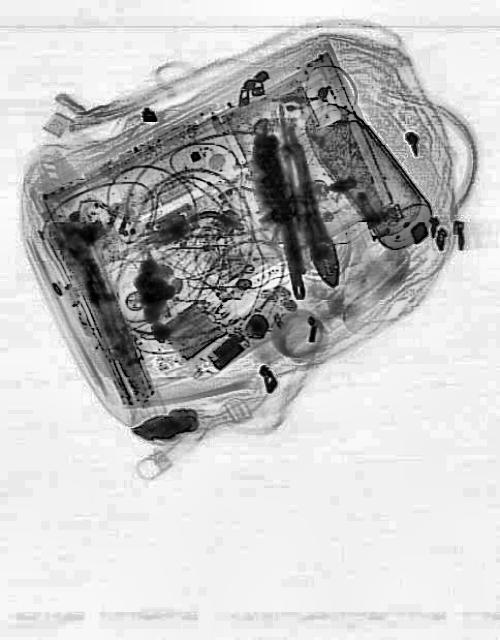Pliers: (264, 138, 352, 294)
